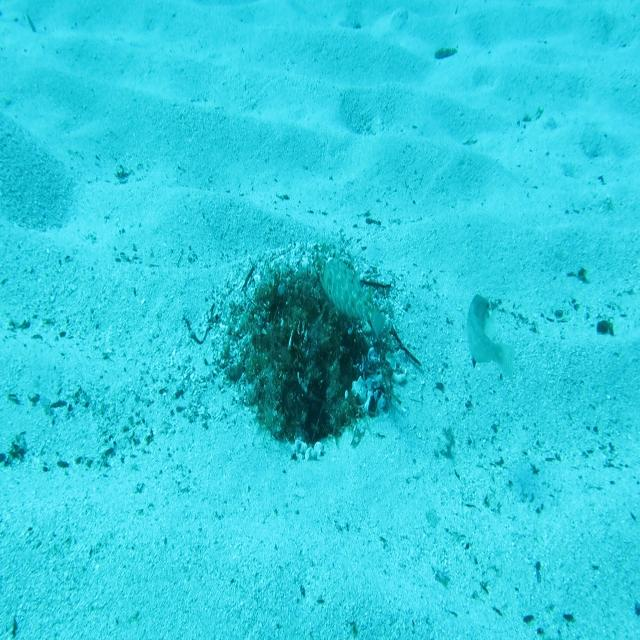INSF: (319, 250, 387, 344)
core_nest: (281, 290, 328, 319)
female: (464, 292, 520, 390)
nest: (207, 237, 413, 468)
vegetation: (432, 46, 460, 64)
